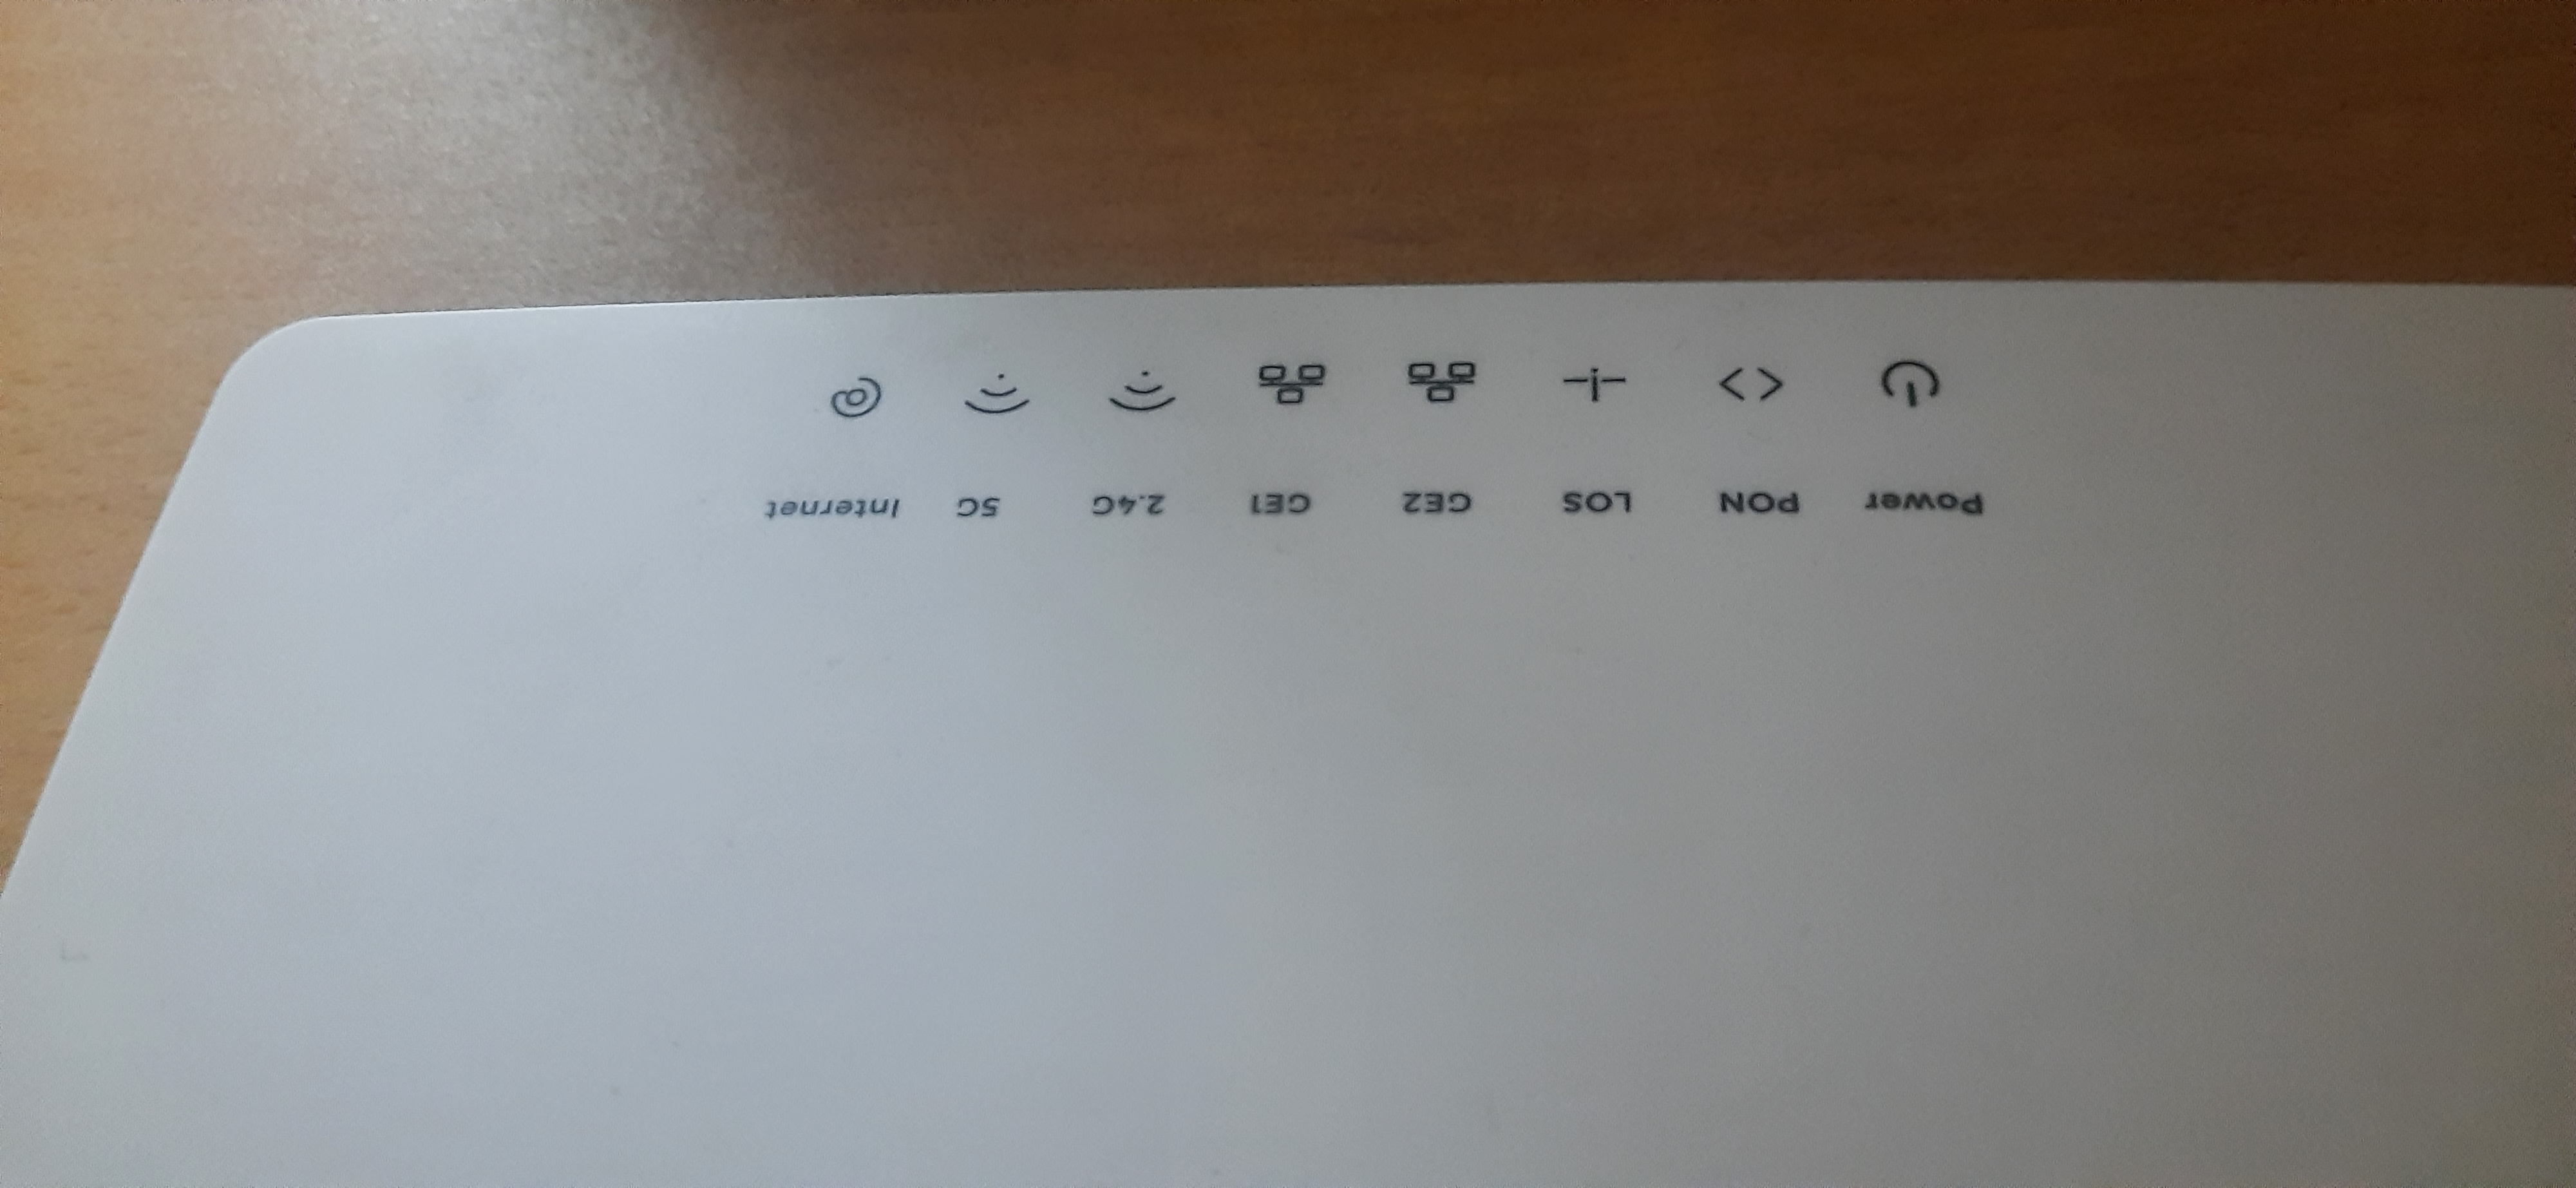WhiteWireIssue: (669, 345, 2155, 605)
